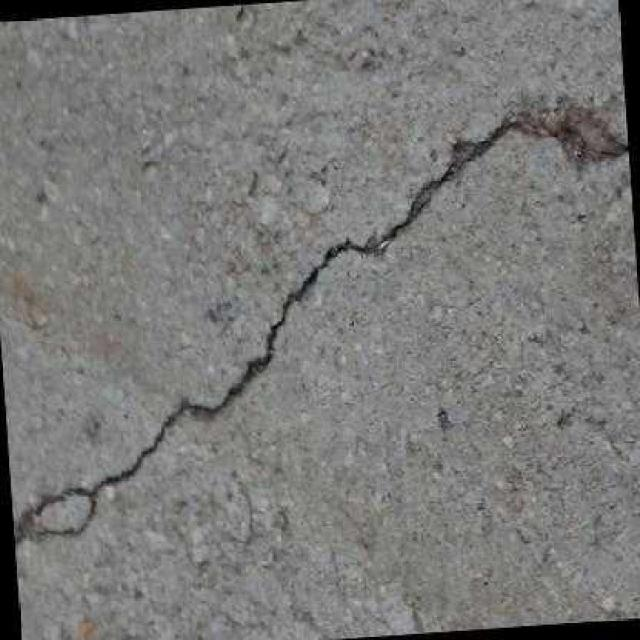D00: (14, 120, 629, 546)
